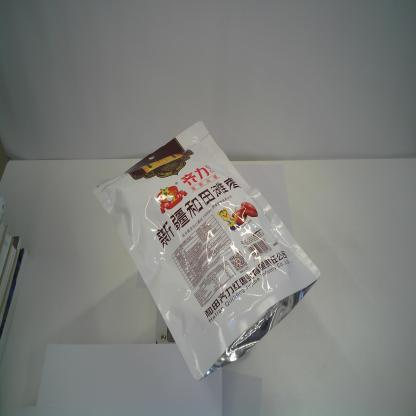Dried Food: (92, 119, 321, 380)
